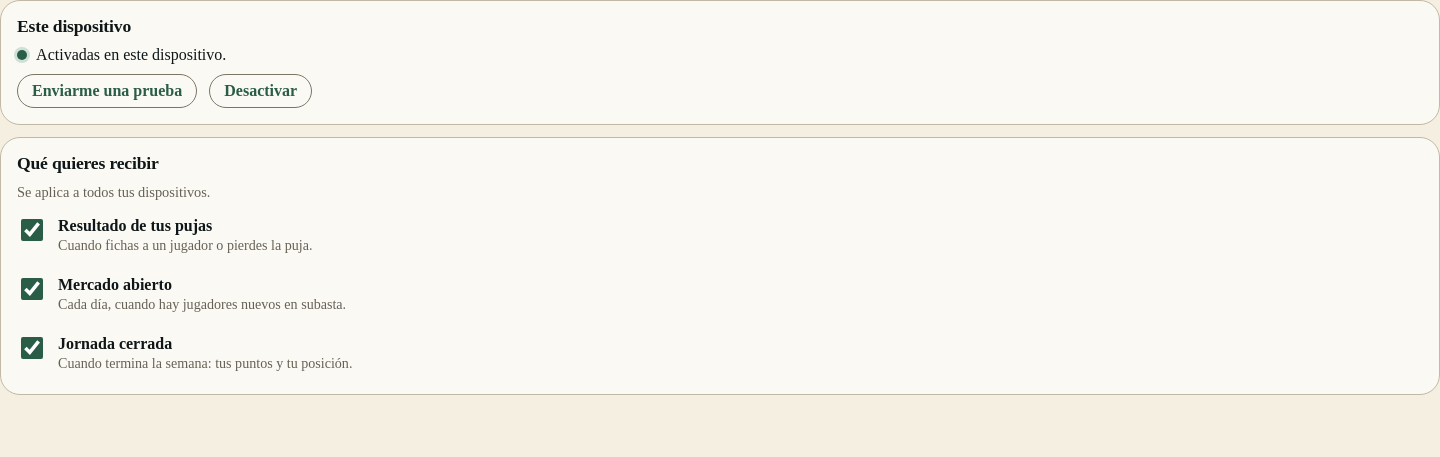
it: NotificationSettings › a server error on the test is shown
Click the button "Enviarme una prueba". click: (107, 91)
box: [17,74,197,108]
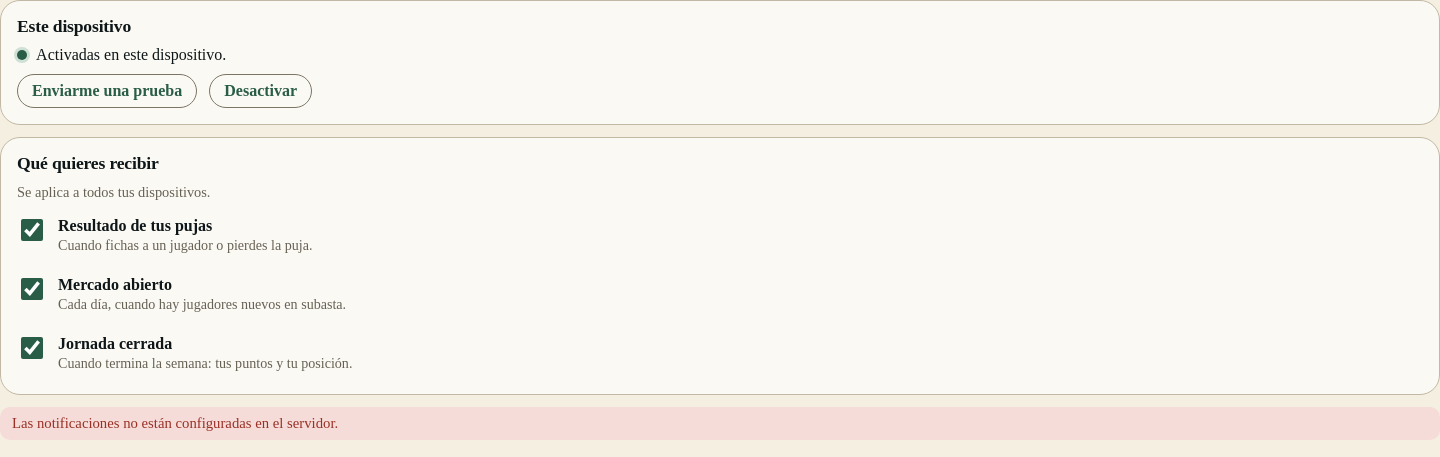
Expected: the message "Las notificaciones no están configuradas en el servidor." is shown, [0,407,1439,440]
